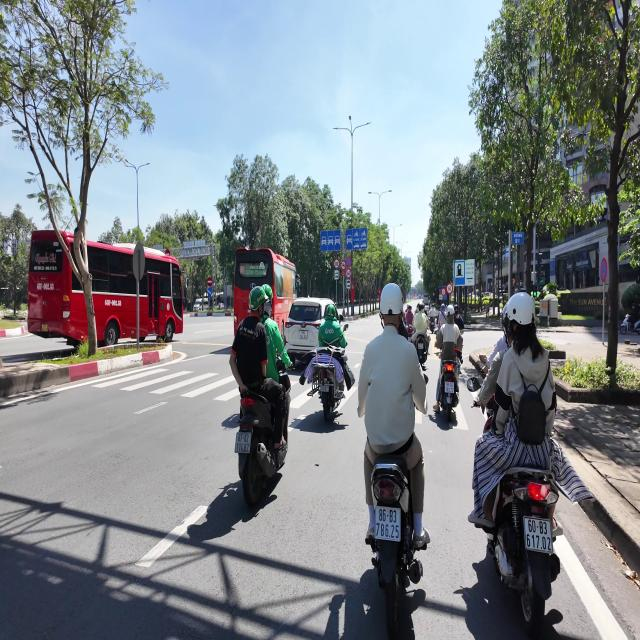car: (285, 298, 333, 361)
motorcycle: (470, 467, 562, 636), (370, 455, 422, 639), (235, 359, 290, 506), (300, 351, 358, 418), (439, 349, 461, 422), (415, 334, 428, 370)
